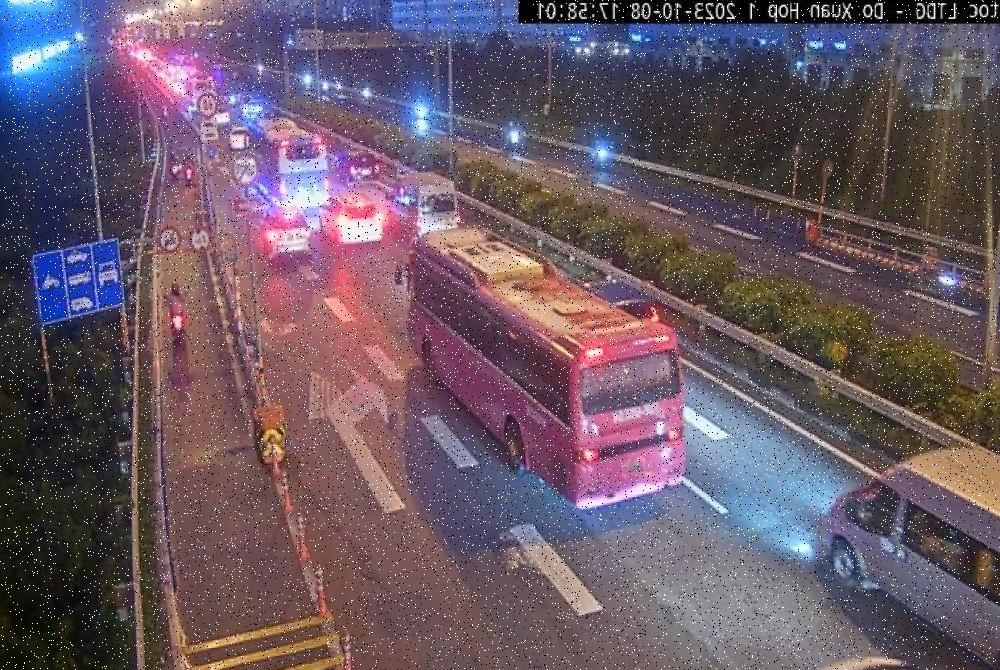bus: (389, 210, 709, 512), (253, 108, 338, 207)
car: (806, 440, 1000, 670), (387, 168, 473, 232), (312, 188, 382, 256), (254, 207, 322, 257)
